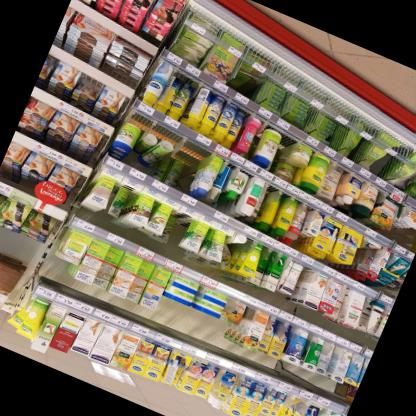empty_space: (230, 63, 267, 98), (173, 141, 206, 171), (409, 215, 416, 250), (173, 212, 189, 223)
